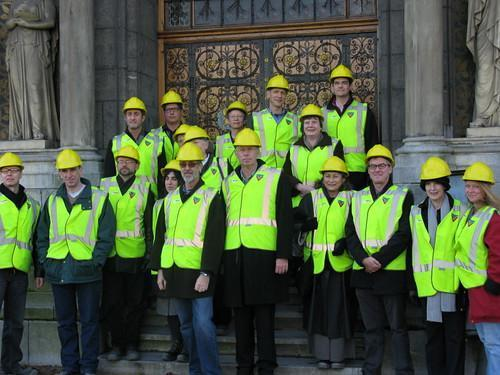vest: (220, 159, 283, 252), (408, 197, 465, 299), (160, 179, 220, 271), (349, 186, 412, 271), (43, 181, 110, 260), (96, 174, 155, 260), (304, 188, 359, 275), (0, 181, 43, 270), (454, 204, 499, 289), (111, 128, 164, 197), (323, 98, 370, 173), (290, 138, 334, 207), (255, 111, 305, 168), (149, 196, 167, 277), (156, 122, 193, 161), (215, 129, 244, 169), (201, 154, 230, 192)
